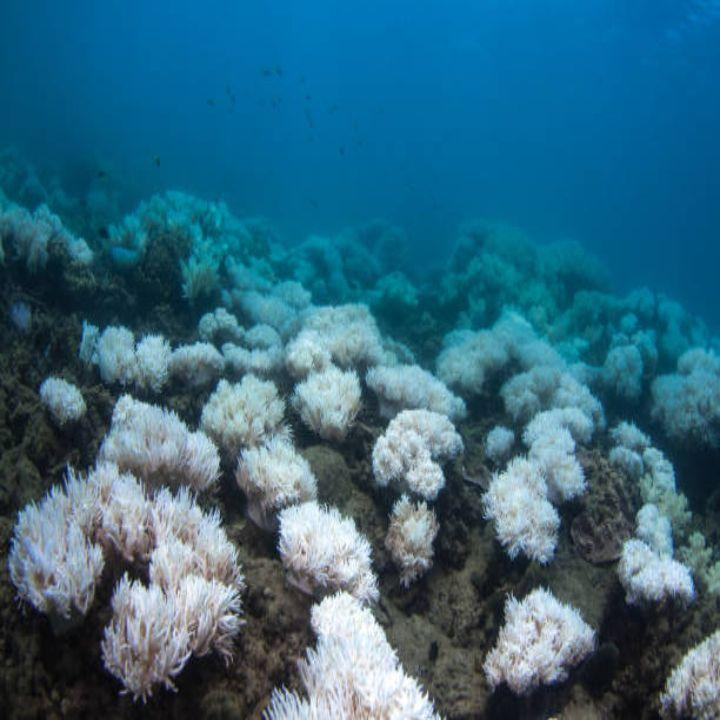Bleached disease: (2, 293, 610, 720), (477, 578, 611, 718), (607, 417, 697, 610)
